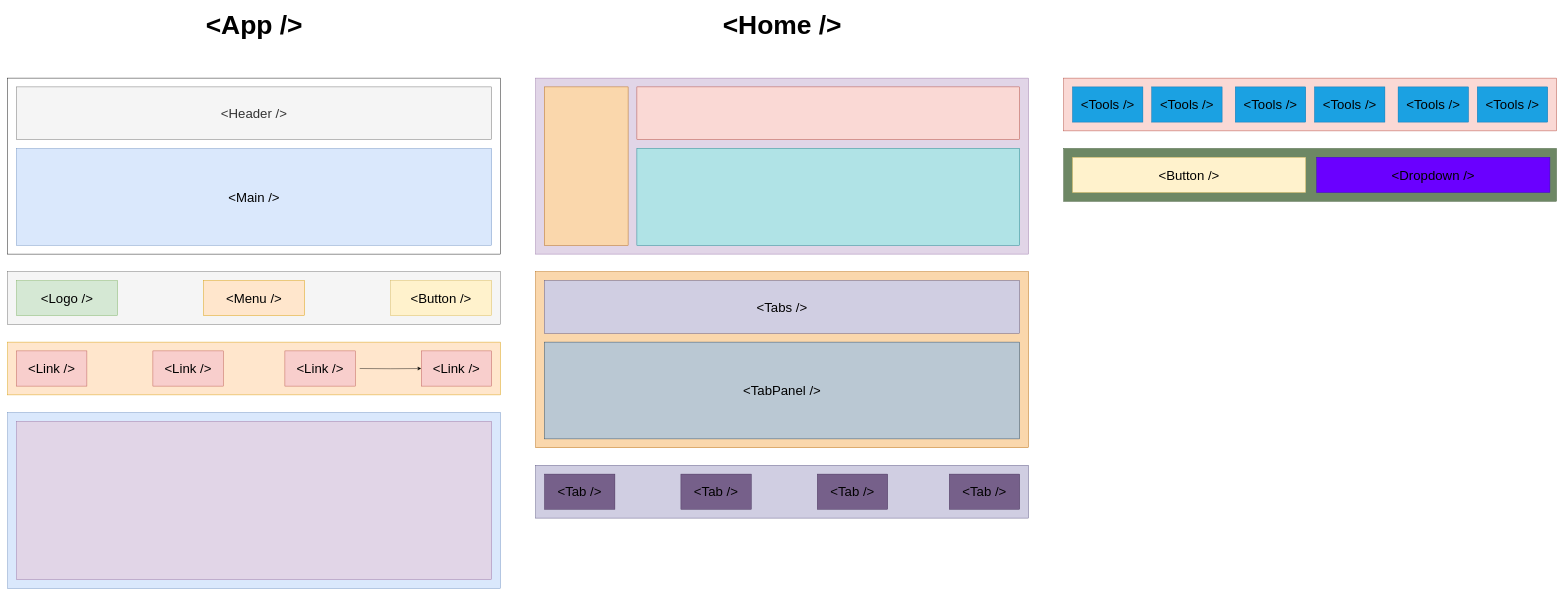
Image size: 1564x596. Some labels were removed from this diagram. Here are the shapes that lost their labels. From the top down, the centre of each, then its label:
At [828,113]: "<Toolbar />".
At [586,165]: "<Sidebar />".
At [828,196]: "<Map />".
At [254,500]: "PAGE".
